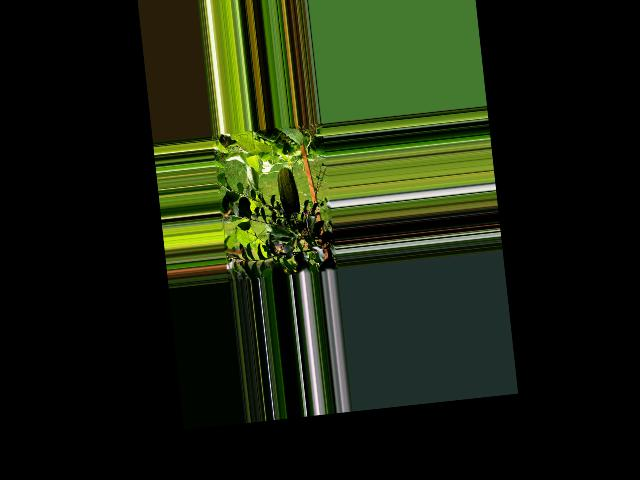cucumber: (276, 166, 302, 221)
